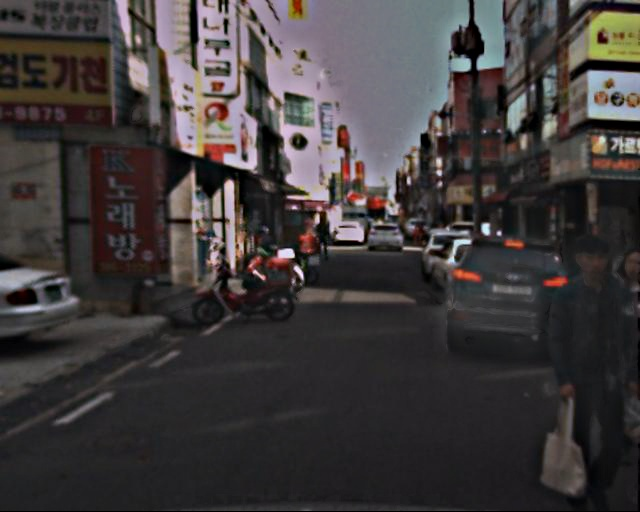person: (538, 235, 628, 495), (312, 216, 332, 262), (412, 221, 429, 250)
